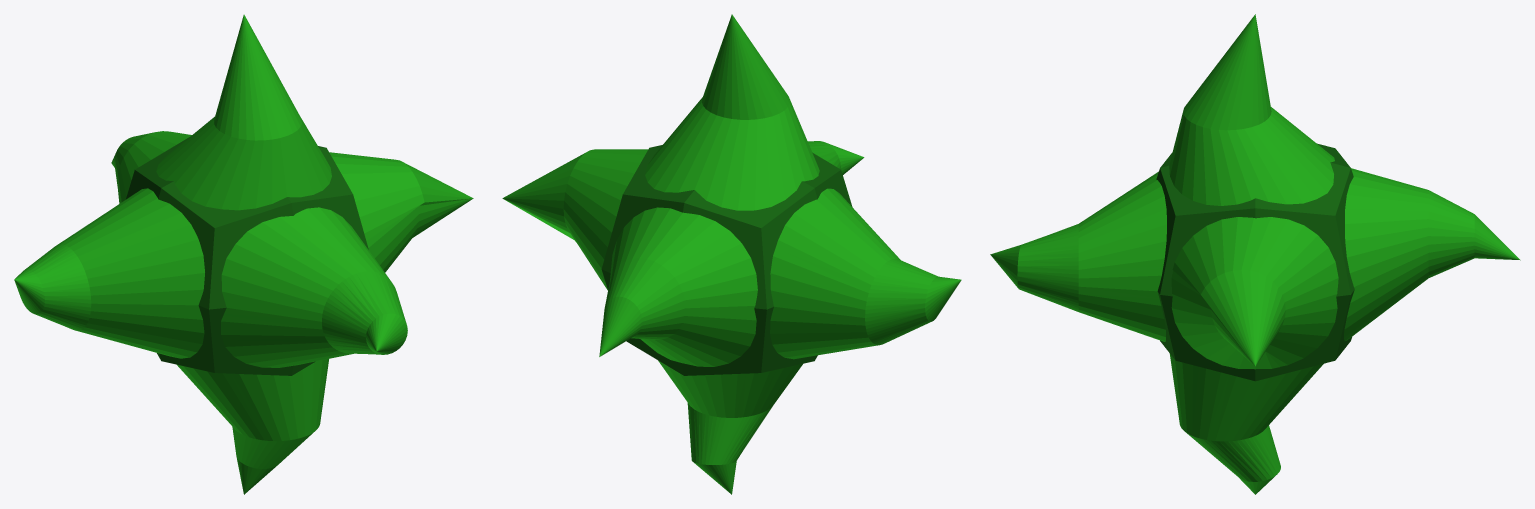
The model's file is ForestSpikesPlant.fbx.
3 views of the same model, side by side, from view 1: azimuth 30°, elevation 25°; view 2: azimuth 150°, elevation 25°; view 3: azimuth 270°, elevation 25° (orthographic).
Visible parts, largest first — view 1: Cone.005, Cone.002, Cone, Cube, Cone.003, Cone.001, Cone.004; view 2: Cone.002, Cone.004, Cone, Cube, Cone.001, Cone.003, Cone.005; view 3: Cone.001, Cone, Cone.005, Cone.004, Cube, Cone.003.
Part boxes in pixels (box(x1,y1,x2,y2)): Cone.005: box(221, 207, 407, 367); Cone.002: box(14, 188, 204, 358); Cone: box(156, 14, 331, 210); Cube: box(126, 137, 368, 375); Cone.003: box(177, 359, 328, 494); Cone.001: box(329, 152, 473, 272); Cone.004: box(111, 131, 191, 203); Cone.002: box(770, 188, 961, 359); Cone.004: box(599, 207, 757, 366); Cone: box(645, 14, 819, 210); Cube: box(601, 145, 852, 375); Cone.001: box(502, 149, 648, 290); Cone.003: box(658, 360, 802, 494); Cone.005: box(808, 141, 864, 174); Cone.001: box(1171, 217, 1338, 369); Cone: box(1169, 14, 1334, 205); Cone.005: box(990, 171, 1166, 341); Cone.004: box(1344, 168, 1520, 341); Cube: box(1156, 143, 1354, 381); Cone.003: box(1169, 353, 1323, 494).
Size of the model in its own units: 6 by 6 by 6.
